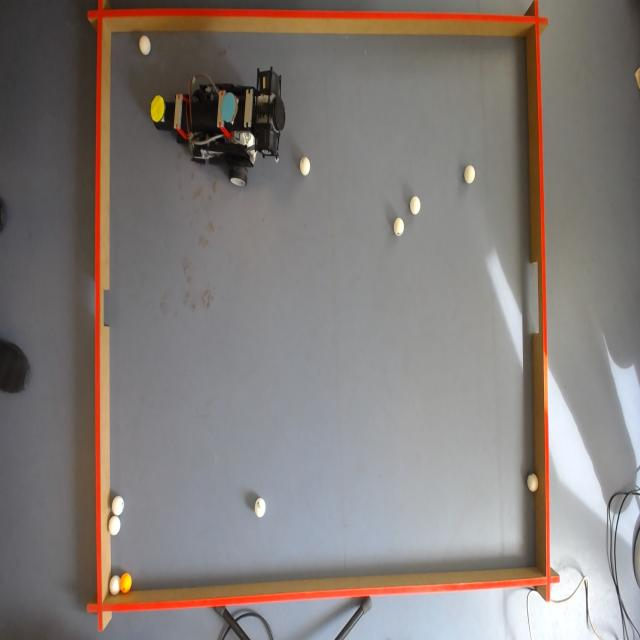orange: (120, 572, 132, 594)
robot: (153, 68, 284, 187)
robot-front: (152, 97, 166, 120)
robot-rear: (221, 91, 240, 121)
white: (253, 496, 266, 520), (138, 34, 152, 56), (526, 473, 540, 494), (112, 497, 126, 516), (299, 157, 312, 177), (109, 518, 122, 537), (463, 166, 476, 183), (109, 575, 120, 595), (393, 218, 405, 236), (410, 196, 420, 213)
